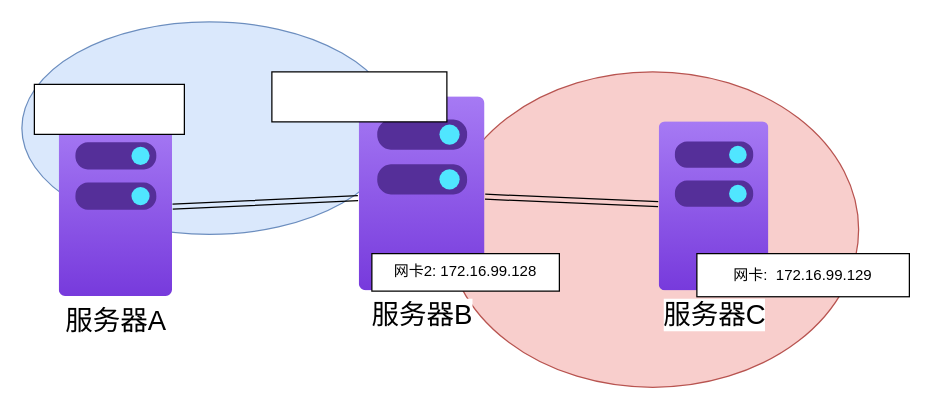
Image size: 931x410. Some labels were removed from this diagram. Here are the shapes that lost their labels. From the top down, the centre of each, then its label:
At pixel 108 108: "网卡: 10.2.150.37".
At pixel 359 96: "网卡1: 10.2.148.190".
